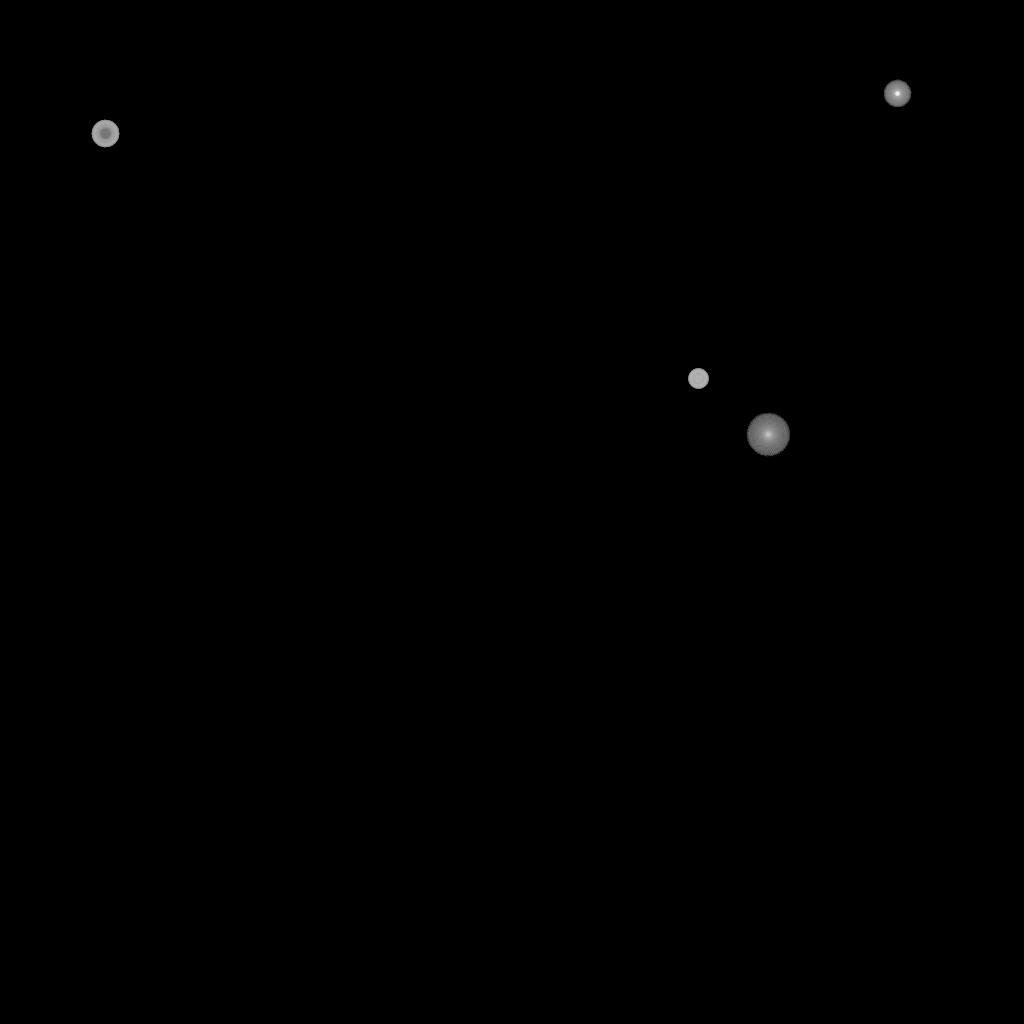depth:-10: (883, 80, 911, 108)
depth:-40: (688, 369, 708, 389)
depth:-50: (91, 120, 119, 148)
depth:10: (746, 413, 790, 457)
